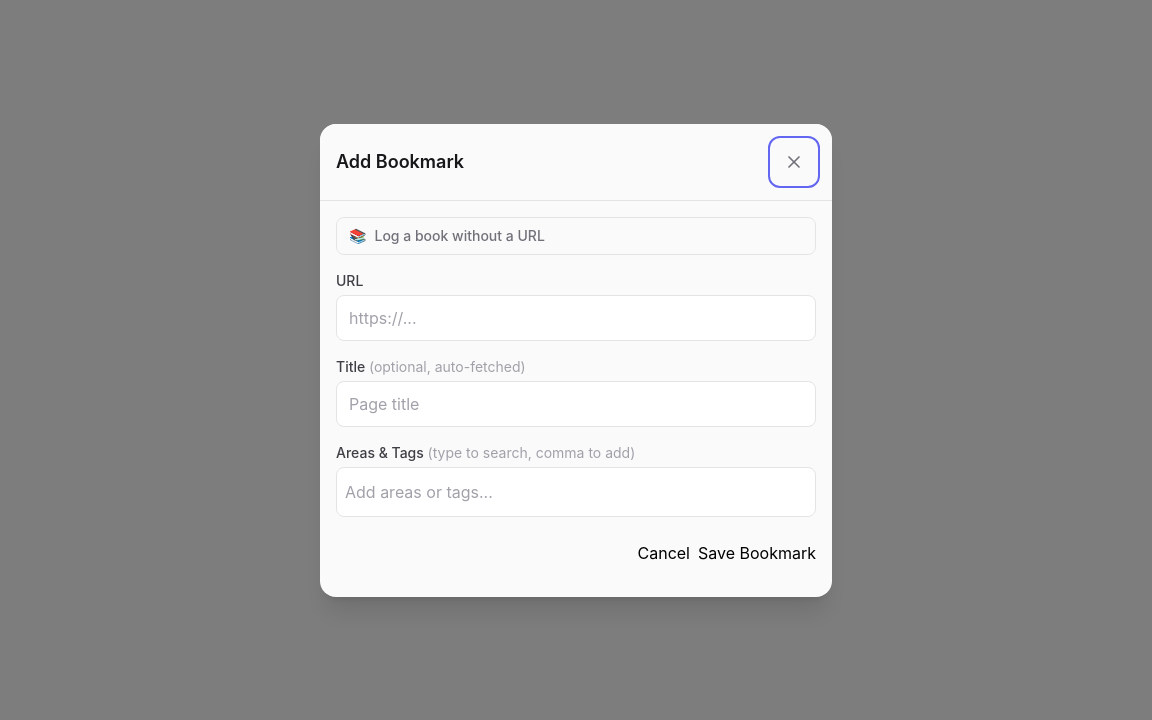
Scenario: AddBookmarkModal › detects YouTube source type when URL is entered
This screenshot has width=1152, height=720.
Type "https://youtube.com/watch?v=abc" into the field labelled "URL" at [576, 318], box [336,294,816,340]
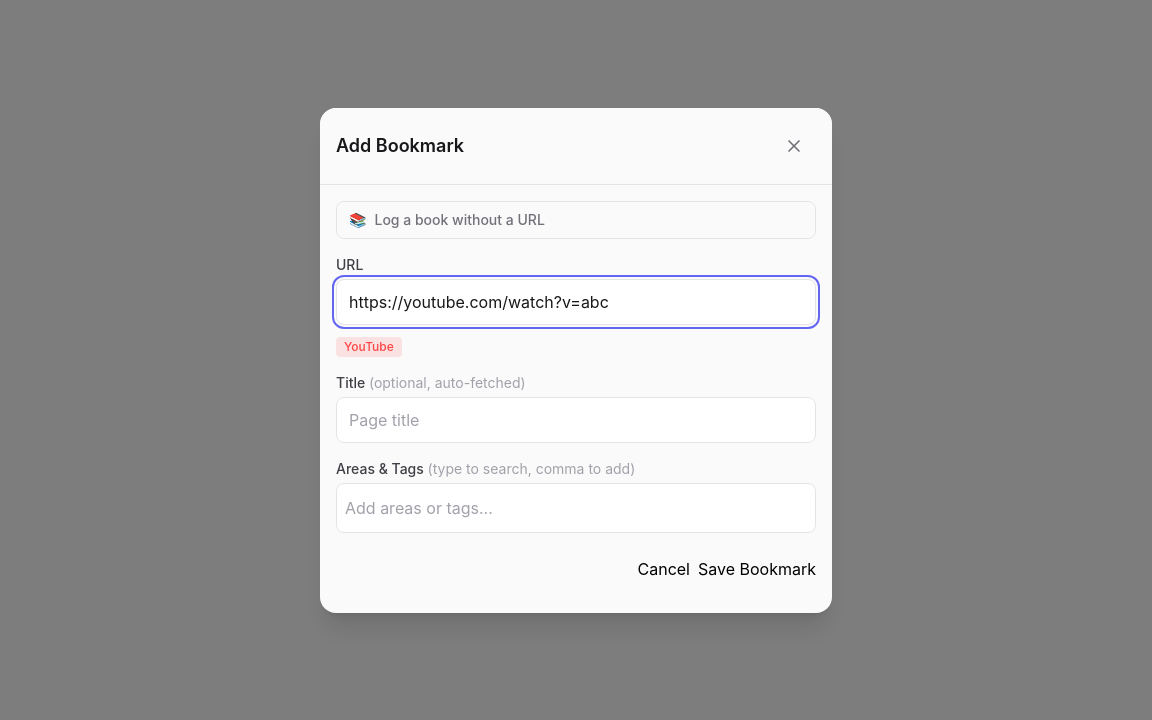
Check: the text "YouTube" is shown, box [336,336,402,356]
